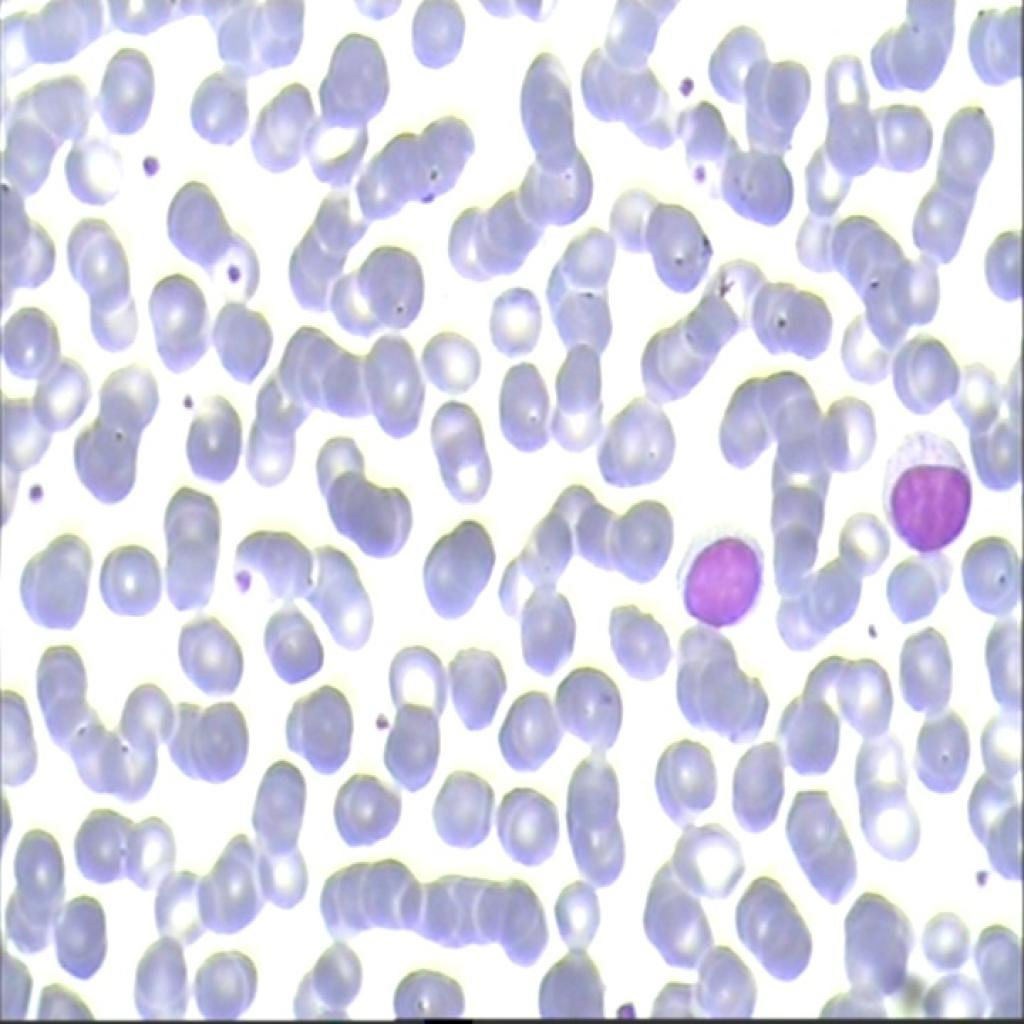Limfosit: (865, 416, 984, 560), (664, 524, 772, 646)
Platelet: (362, 690, 406, 740), (128, 144, 169, 196), (17, 466, 57, 516), (684, 146, 714, 212), (670, 57, 705, 105), (962, 855, 998, 898), (232, 560, 260, 606), (172, 384, 209, 418), (224, 252, 250, 286), (865, 615, 883, 642)
